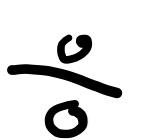div: (7, 34, 121, 137)
